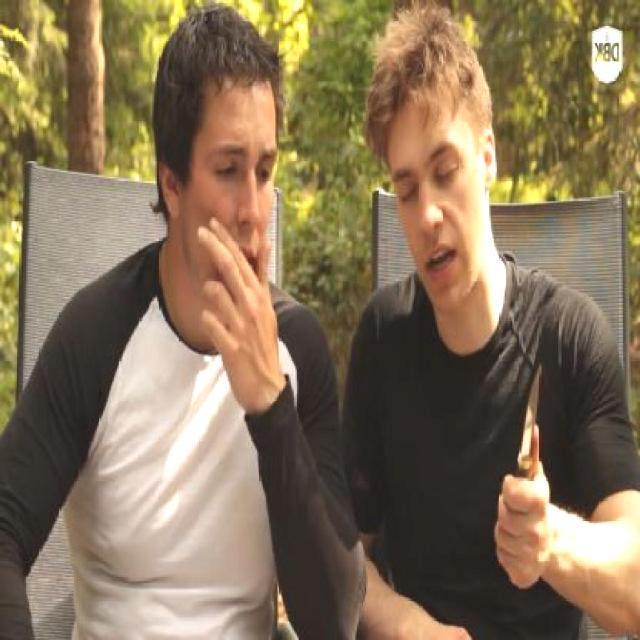knife: (491, 352, 555, 543)
